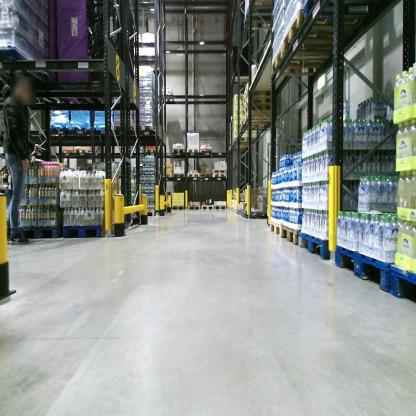pallet: (281, 9, 371, 57), (334, 247, 395, 296), (270, 43, 349, 78), (0, 44, 54, 92), (300, 1, 387, 21), (296, 229, 331, 260), (390, 263, 415, 306), (61, 222, 126, 236), (16, 221, 63, 237), (243, 6, 274, 28), (242, 84, 279, 100), (280, 224, 304, 248), (244, 93, 280, 107), (244, 98, 276, 112), (244, 113, 275, 126), (130, 122, 157, 136), (244, 106, 281, 116), (239, 120, 269, 132), (93, 122, 114, 137), (69, 123, 93, 136), (243, 208, 268, 219), (113, 122, 135, 134), (48, 122, 69, 134), (172, 144, 199, 153), (139, 204, 159, 216), (232, 136, 256, 145), (270, 221, 281, 236), (73, 146, 91, 155), (145, 146, 161, 156), (201, 200, 215, 210), (58, 150, 73, 157), (187, 171, 200, 179), (172, 173, 185, 180), (199, 149, 214, 155), (171, 204, 186, 210), (214, 205, 228, 211), (199, 173, 212, 179), (212, 168, 227, 173), (212, 173, 227, 178), (188, 205, 202, 210), (164, 173, 172, 179), (239, 208, 244, 217), (236, 208, 240, 214)
